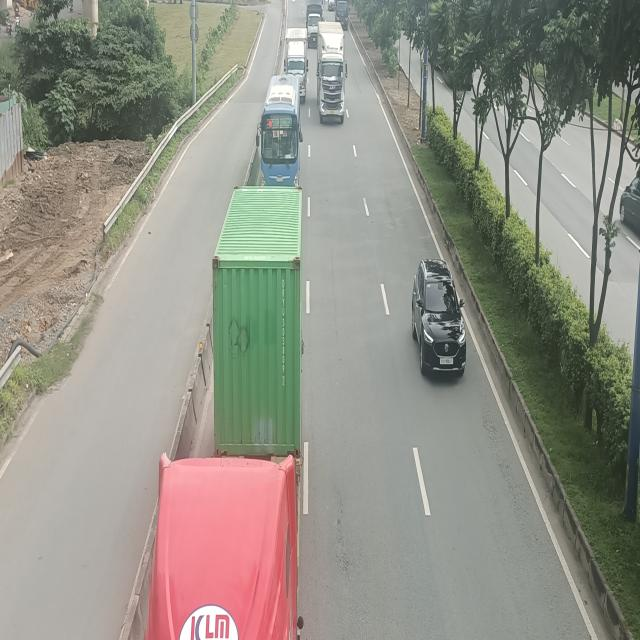car: (413, 256, 468, 375)
coach: (255, 72, 301, 185)
container: (143, 185, 306, 640), (316, 22, 346, 128)
truck: (286, 26, 308, 99), (307, 0, 322, 46)
